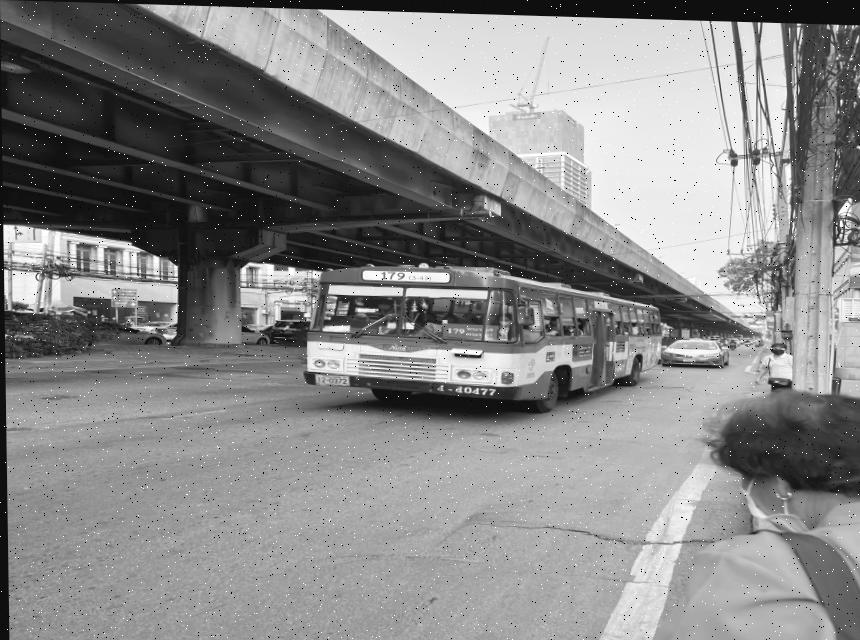BMTA-bus: (302, 263, 662, 408)
Bus Line Number: (374, 267, 432, 279)
Bus Side Number: (433, 380, 497, 394)
Destination Sign: (442, 320, 499, 337)
